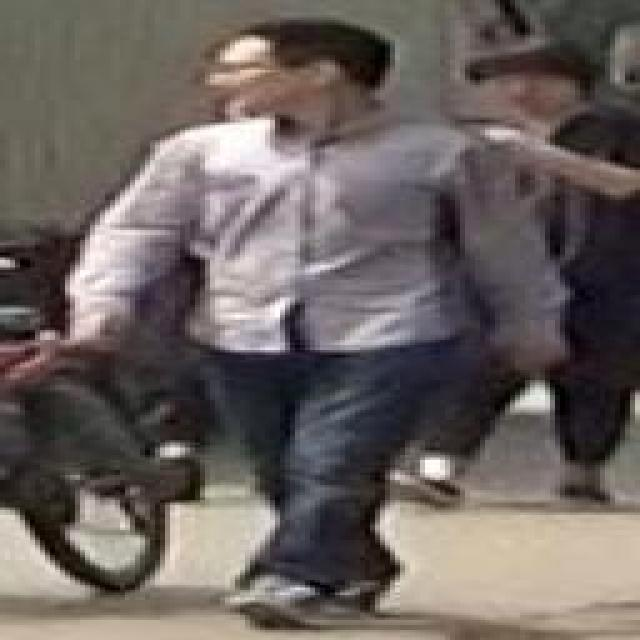adult: (70, 22, 572, 606)
